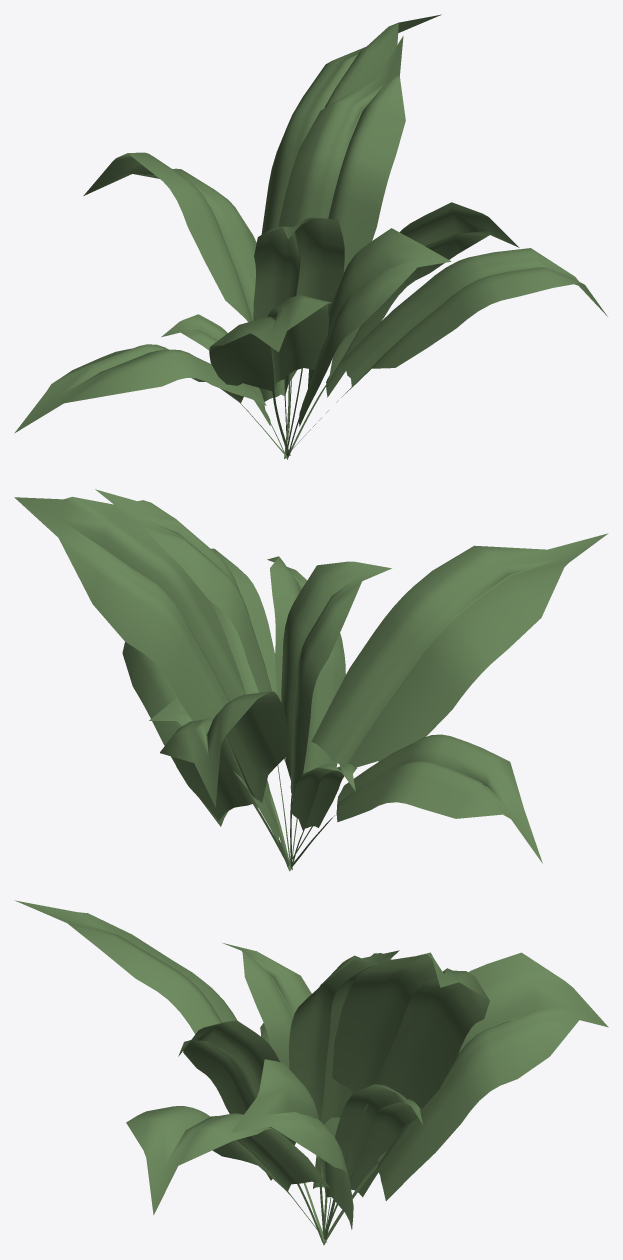
The model's file is prueba plantas.fbx.
3 renders of one model, top to bottom at view 1: azimuth 30°, elevation 25°; view 2: azimuth 150°, elevation 25°; view 3: azimuth 270°, elevation 25°, orthographic. The views are drawn at different scales.
Visible parts, largest first — view 1: GS Forest ferns B 02; view 2: GS Forest ferns B 02; view 3: GS Forest ferns B 02.
Boxes of the visible parts, left/top/right/bottom form: GS Forest ferns B 02: left=14, top=14, right=607, bottom=459; GS Forest ferns B 02: left=14, top=489, right=608, bottom=871; GS Forest ferns B 02: left=14, top=900, right=608, bottom=1245.
Bounding box in the file's own units: 0.694 × 0.4809 × 0.6971.
